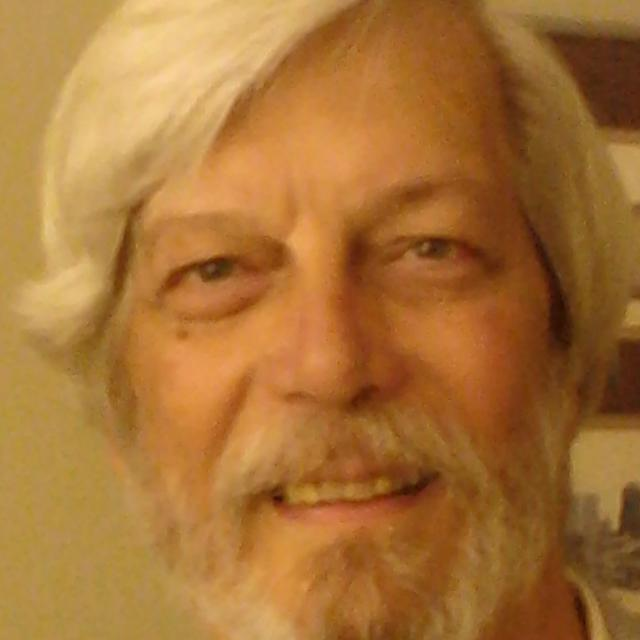Normal: (121, 0, 573, 639)
